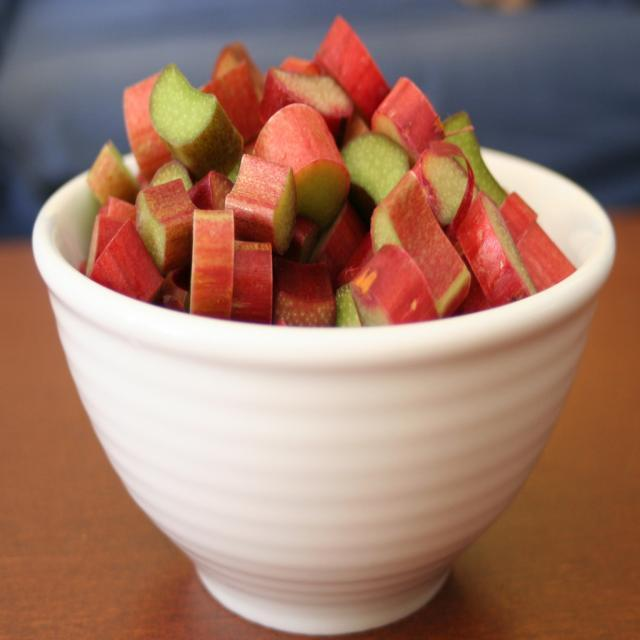Salad: (80, 14, 579, 325)
